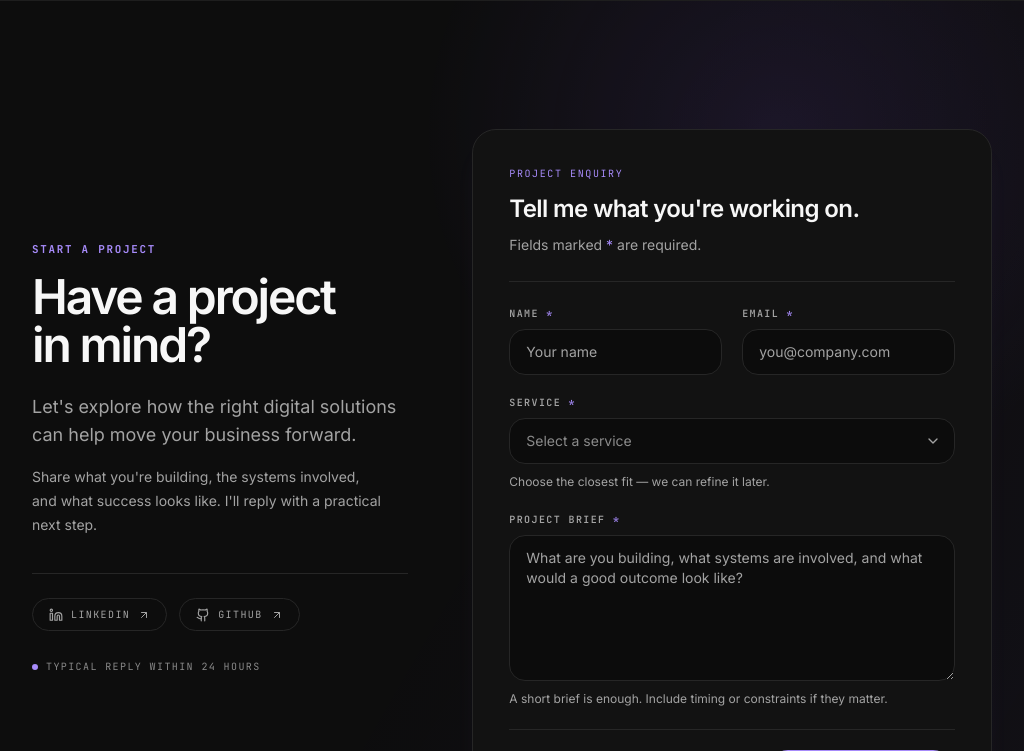
Scenario: ContactSection › submits the preserved API contract and shows the loading then success state
Later steps or results of the test are not shown.
Type "Alex" into the field labelled "Name *" at (616, 352), box [509,329,722,375]
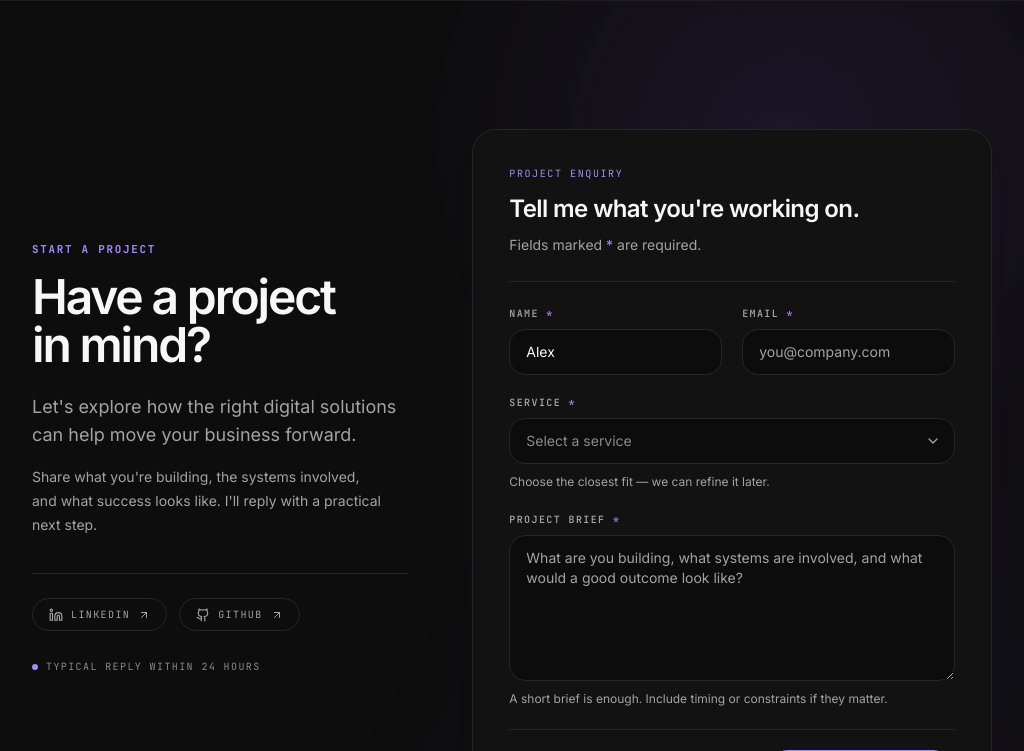
Type "alex@example.com" into the field labelled "Email *" at (849, 352), box [742,329,955,375]
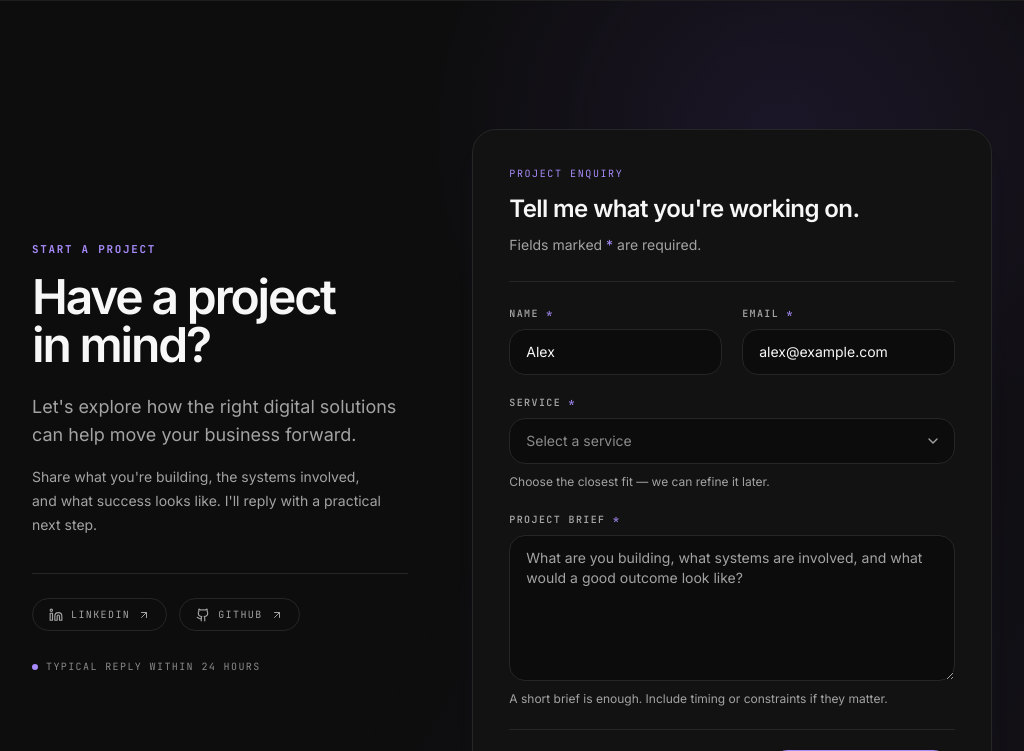
Select "Web Development" in the dropdown labelled "Service *" at (732, 441), box [509,418,955,464]
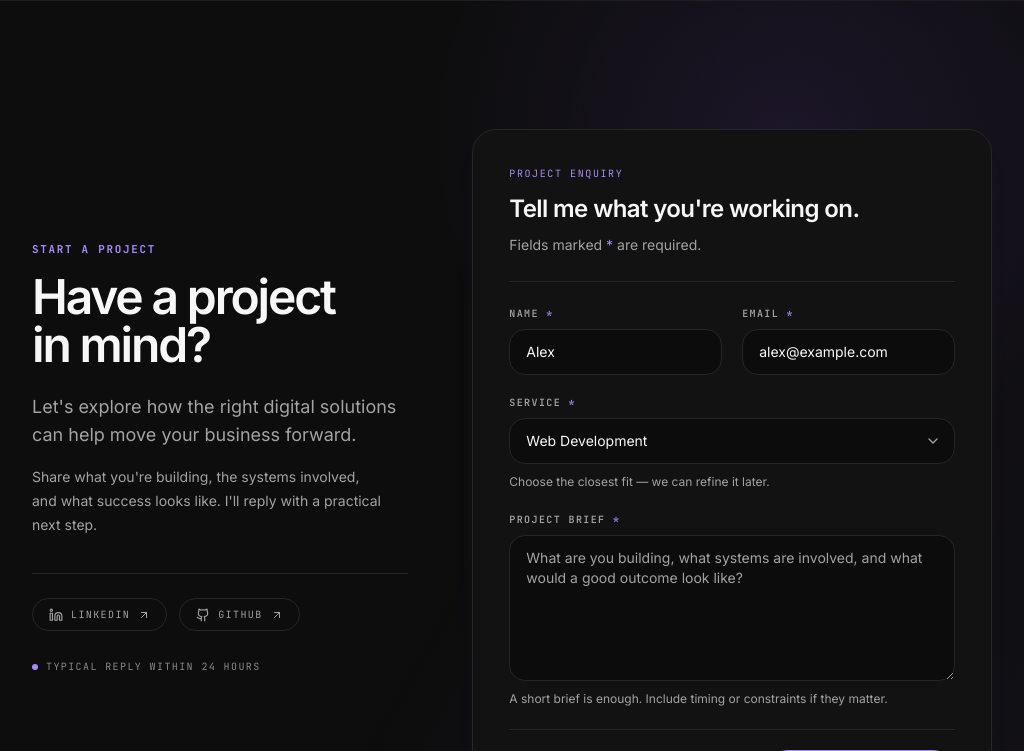
Replace the text in the text box labelled "Project brief *" with "A new marketing site with a small CMS." at (732, 608), box [509,535,955,681]
(page scrolled)
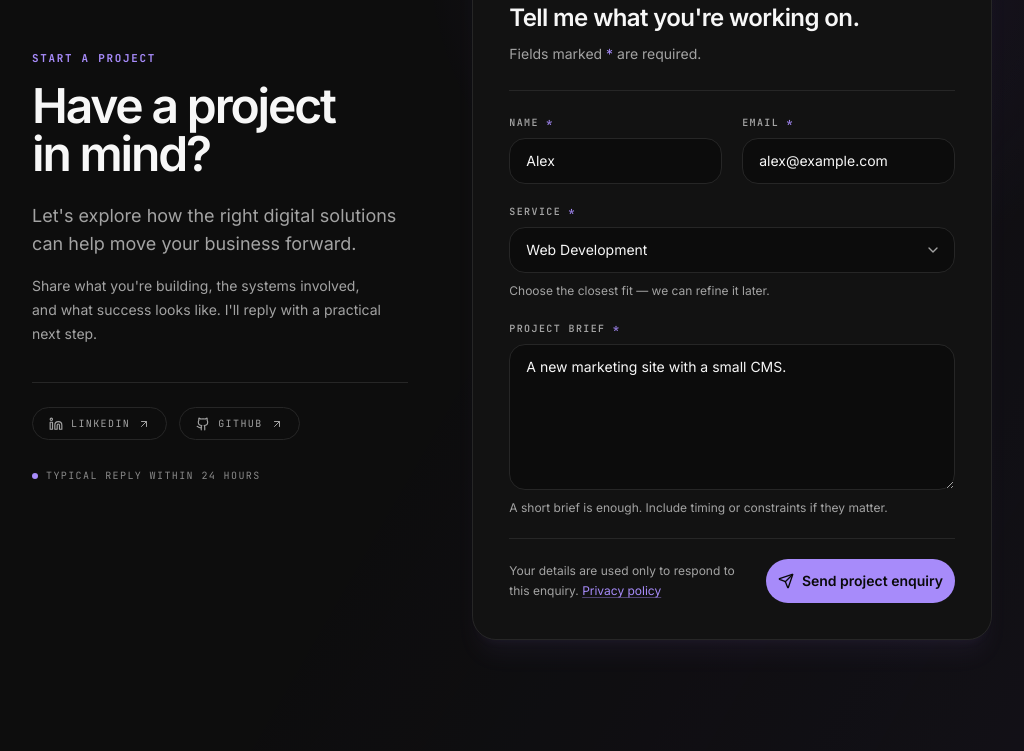
Click the button "Send project enquiry" at (860, 581), box [766,559,955,603]
(page scrolled)
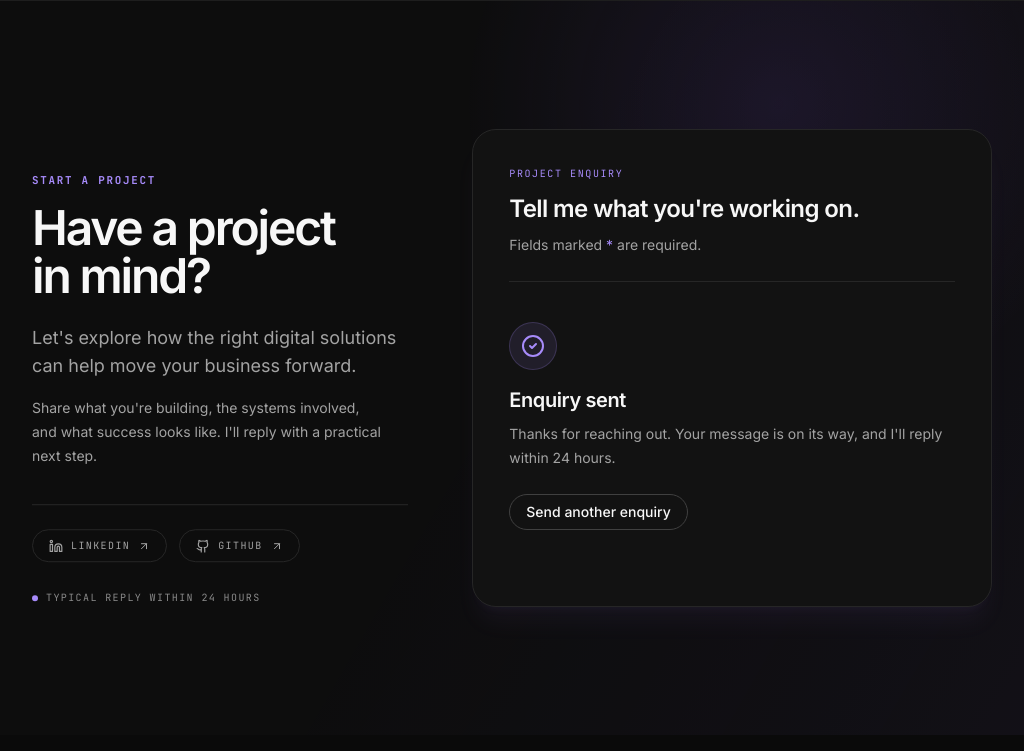
Check: the heading "Enquiry sent" is shown, box [509,388,626,412]
Check: the form is gone
